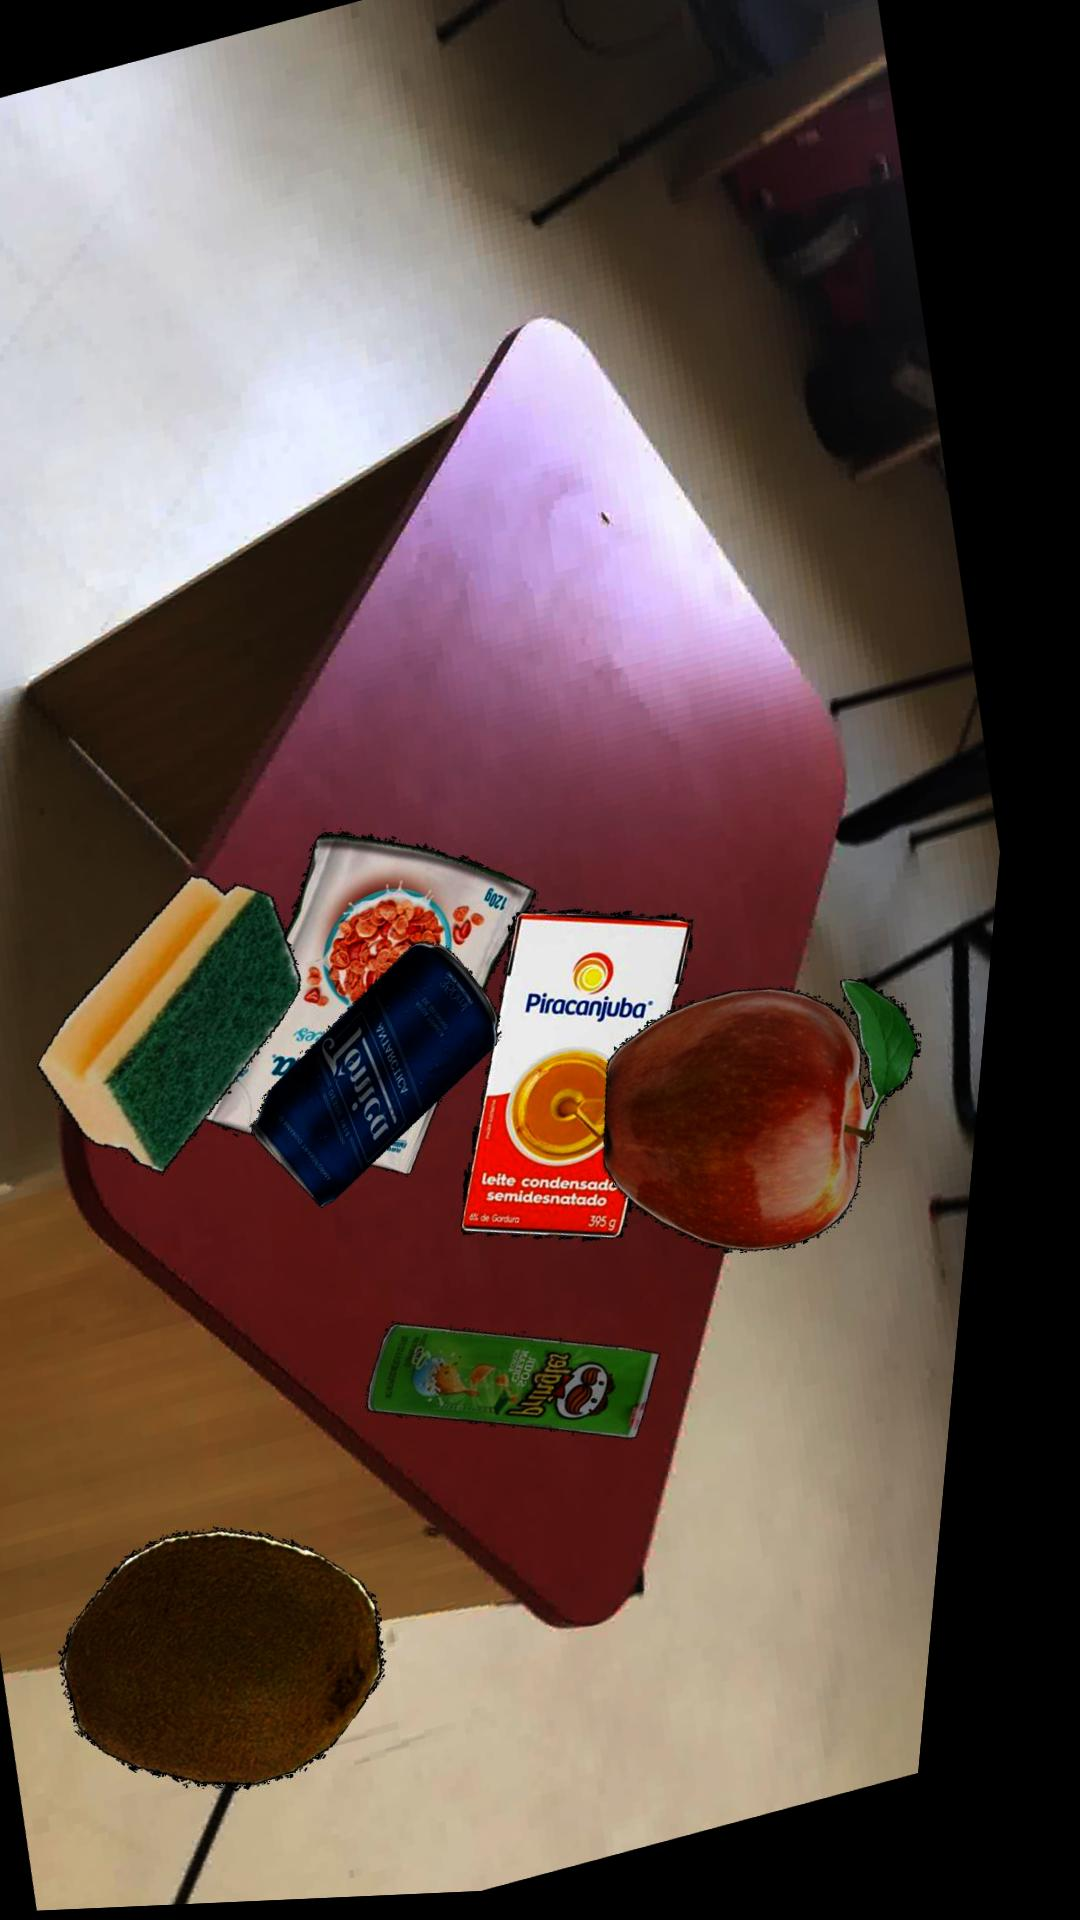apple: (625, 989, 940, 1262)
corn flakes: (225, 837, 553, 1182)
kiwi: (88, 1535, 415, 1795)
pringles: (393, 1328, 684, 1448)
sponge: (57, 880, 319, 1178)
tonic: (272, 948, 521, 1213)
